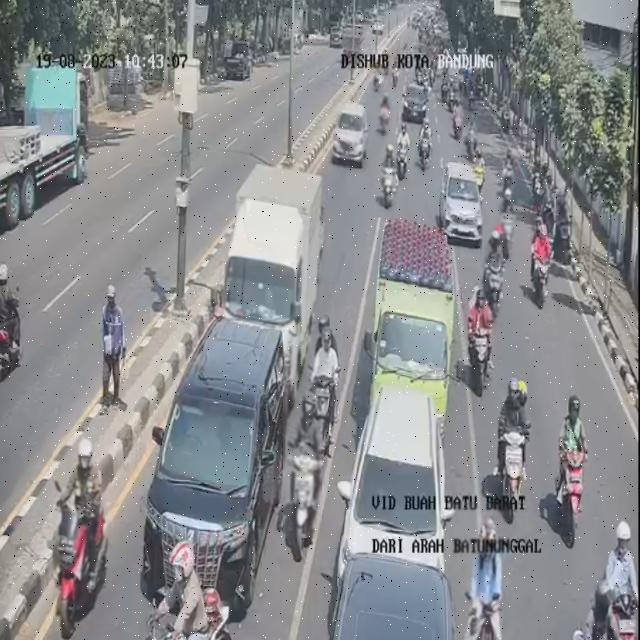cars: (157, 322, 284, 616), (329, 384, 452, 586), (373, 215, 450, 427), (336, 545, 450, 640), (440, 160, 490, 246), (378, 88, 392, 136)
motorcycle: (54, 436, 112, 628), (448, 502, 511, 640), (144, 537, 225, 637), (579, 512, 636, 639), (283, 392, 322, 538), (552, 395, 590, 537), (462, 278, 500, 388), (333, 95, 371, 168), (306, 309, 328, 435), (480, 215, 503, 333), (532, 220, 558, 310), (497, 183, 521, 250), (378, 135, 396, 206), (526, 145, 544, 215), (498, 142, 518, 200), (403, 82, 429, 125), (460, 113, 478, 168), (418, 117, 435, 169), (397, 124, 413, 177), (556, 192, 568, 258), (456, 92, 468, 148), (474, 147, 490, 182), (446, 75, 464, 106), (367, 64, 384, 89)
truck: (222, 164, 325, 406)
